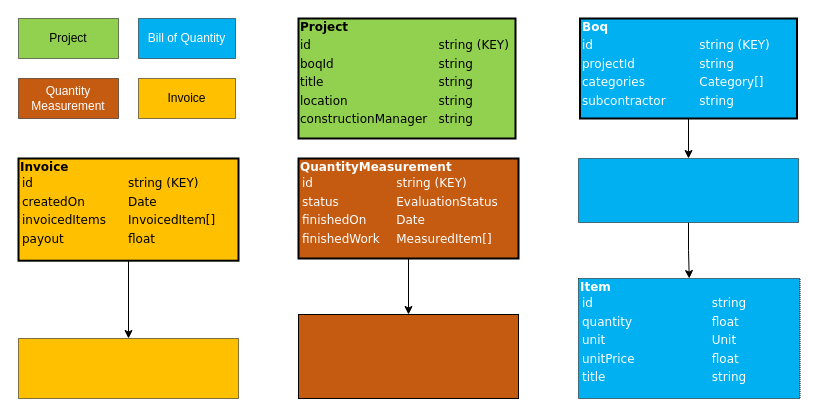
The diagram is 817 pixels wide and 416 high, and some of its shapes have lost their labels. Each missing label, with the box of its shape:
Category name string items Item[]: (578, 158, 798, 222)
InvoicedItem itemId string quantity float: (18, 338, 238, 398)
MeasuredItem itemId string quantity string proofOfWork string[]: (298, 314, 518, 398)
